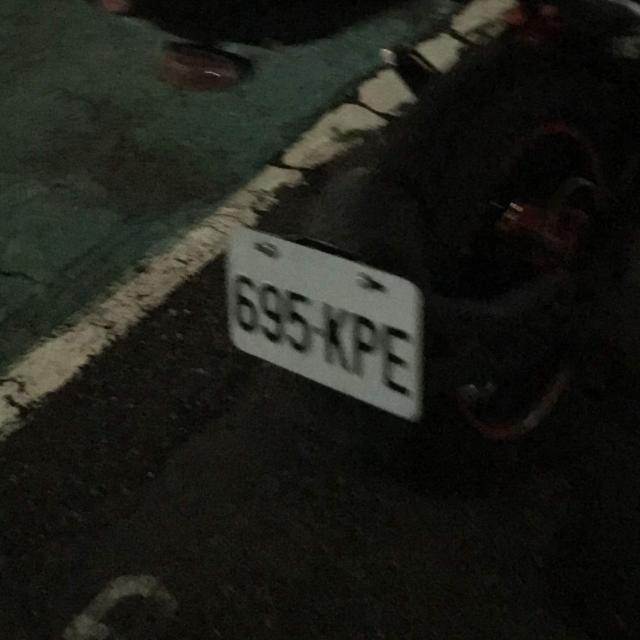W: (195, 200, 454, 441)
